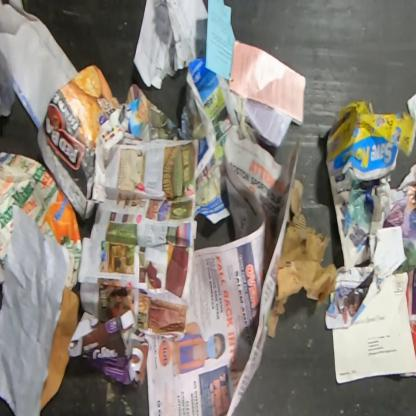cardboard: (0, 152, 83, 291), (267, 178, 337, 338), (38, 287, 79, 413)
soft_plastic: (0, 51, 15, 115)
